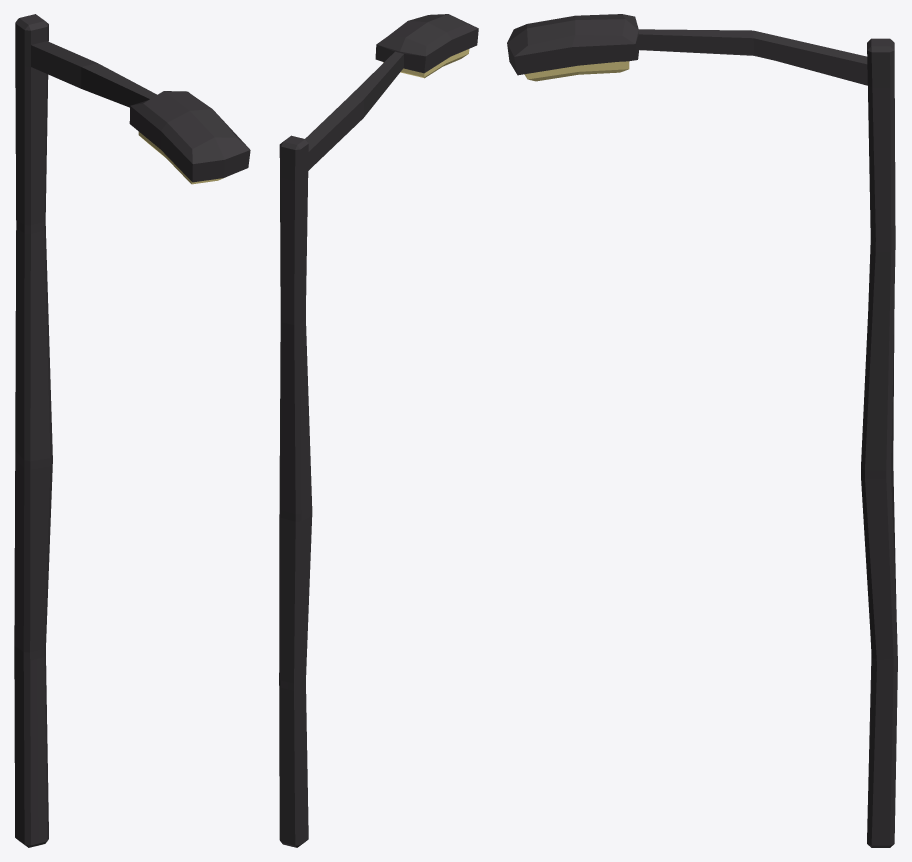
Rendered from lamp.fbx.
3 renders of one model, left to right at view 1: azimuth 30°, elevation 25°; view 2: azimuth 150°, elevation 25°; view 3: azimuth 270°, elevation 25°, orthographic. The views are drawn at different scales.
Parts seen in each view (by area): view 1: Cube; view 2: Cube; view 3: Cube.
Boxes of the visible parts, bbox=[...] form: Cube: bbox=[14, 14, 250, 847]; Cube: bbox=[279, 14, 478, 847]; Cube: bbox=[507, 14, 897, 847].
Bounding box in the file's own units: 75.1 × 1044 × 448.
